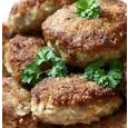cutlet: (32, 72, 124, 128), (45, 2, 127, 64), (9, 35, 56, 79), (9, 1, 57, 32), (2, 79, 30, 128)
